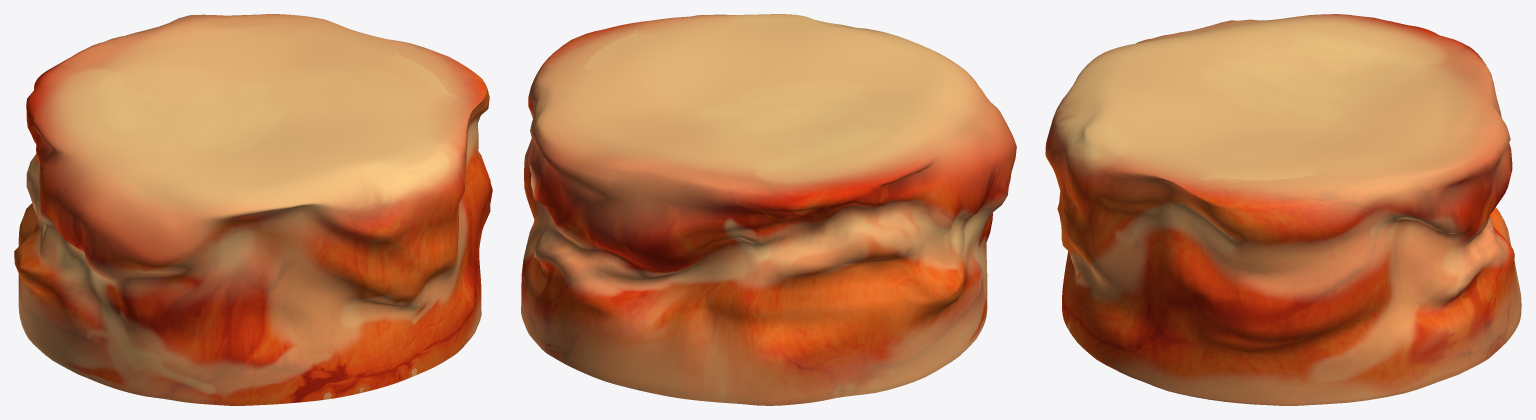
Rendered from RoundedLevelsBase 2 Flattened.fbx.
3 views of the same model, side by side, from view 1: azimuth 30°, elevation 25°; view 2: azimuth 150°, elevation 25°; view 3: azimuth 270°, elevation 25° (orthographic).
Parts seen in each view (by area): view 1: RoundedLevelsBase 2 Flattened; view 2: RoundedLevelsBase 2 Flattened; view 3: RoundedLevelsBase 2 Flattened.
Part boxes in pixels (bbox=[...]): RoundedLevelsBase 2 Flattened: bbox=[14, 14, 492, 405]; RoundedLevelsBase 2 Flattened: bbox=[521, 14, 1016, 405]; RoundedLevelsBase 2 Flattened: bbox=[1045, 14, 1521, 405].
Size of the model in its own units: 302 by 320 by 150.
Materials: 1 (1 with a texture image).
